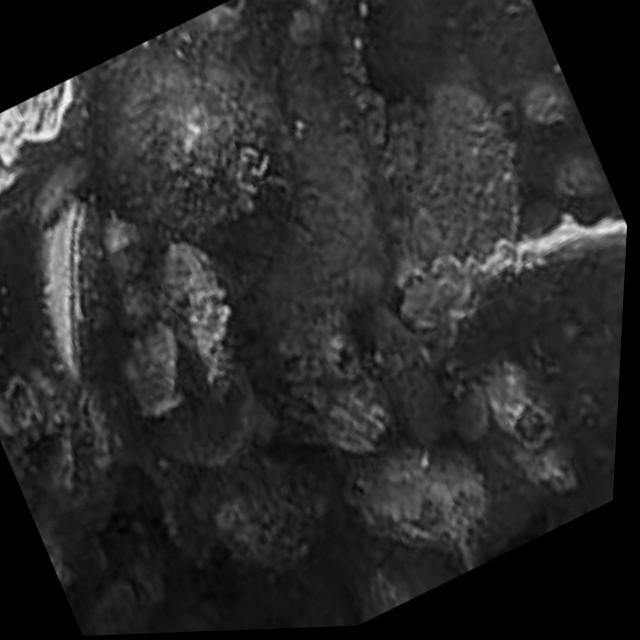Oyster-Closed: (439, 213, 627, 360), (48, 206, 116, 384)
Oyster-Indeterminate: (161, 446, 331, 577), (417, 91, 525, 252), (347, 439, 479, 544)
